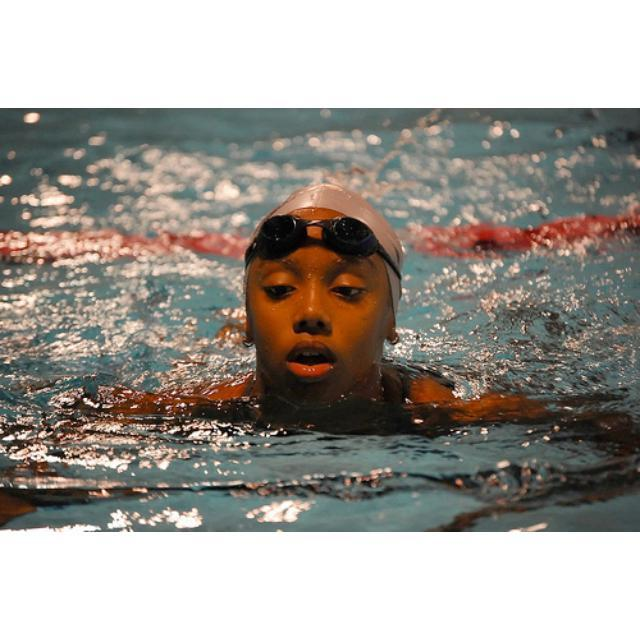human: (61, 177, 639, 453)
